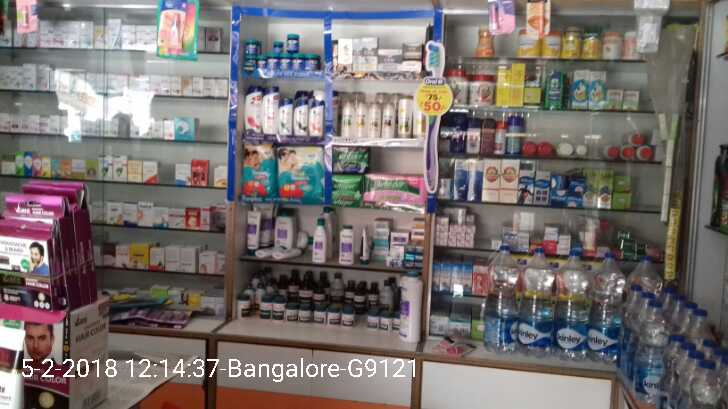beauty: (259, 86, 278, 138), (245, 87, 261, 136), (397, 97, 414, 139), (377, 44, 402, 72), (293, 100, 309, 136), (361, 37, 377, 72), (339, 100, 354, 137), (279, 99, 293, 137), (309, 100, 323, 138), (366, 99, 380, 136), (380, 104, 394, 139), (401, 39, 424, 60), (354, 101, 365, 136)
pharmacy: (276, 145, 326, 200), (362, 172, 426, 208), (240, 140, 277, 198), (329, 147, 369, 174), (268, 52, 319, 71), (328, 176, 364, 202), (284, 34, 301, 50)
